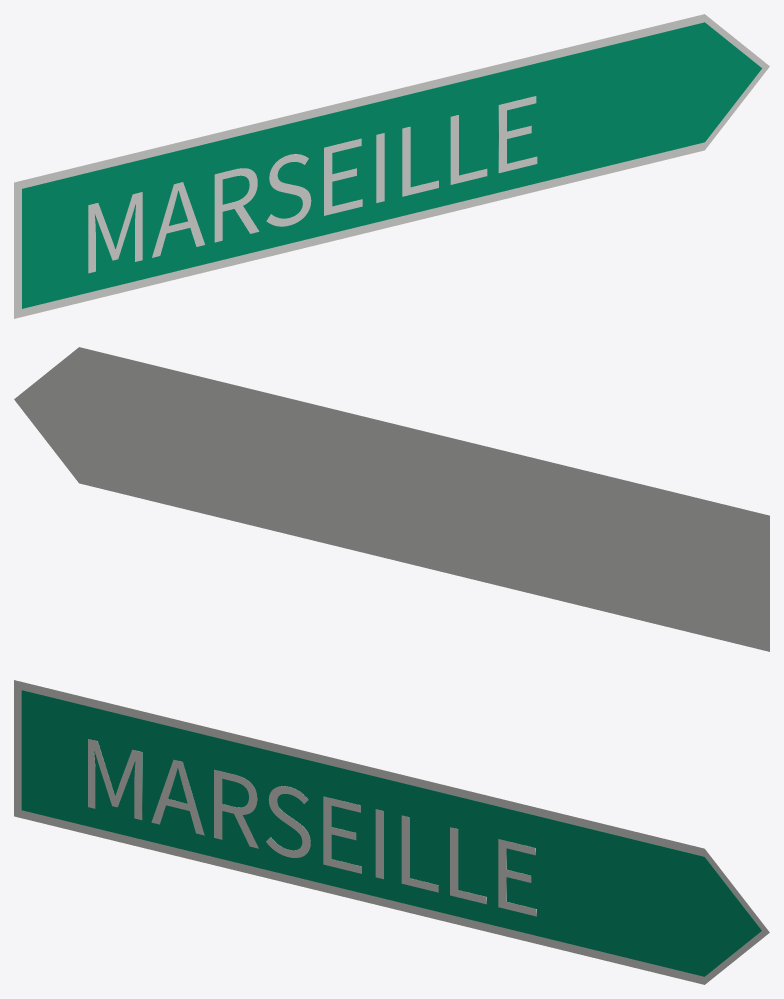
The picture shows the model from 3 angles, top to bottom: view 1: azimuth 30°, elevation 25°; view 2: azimuth 150°, elevation 25°; view 3: azimuth 330°, elevation 25°; orthographic projection.
Visible parts, largest first — view 1: Dv43b_reg01, Dv43b_lis00, Dv43b_txt02; view 2: Dv43b_lis00; view 3: Dv43b_reg01, Dv43b_lis00, Dv43b_txt02.
Part boxes in pixels (x1,y1,x2,y2): Dv43b_reg01: [22, 22, 761, 308]; Dv43b_lis00: [14, 14, 769, 318]; Dv43b_txt02: [88, 96, 537, 273]; Dv43b_lis00: [14, 347, 769, 651]; Dv43b_reg01: [21, 690, 761, 976]; Dv43b_lis00: [14, 680, 769, 984]; Dv43b_txt02: [88, 739, 536, 916].
Size of the model in its own units: 1.45 by 0.25 by 0.0012.
